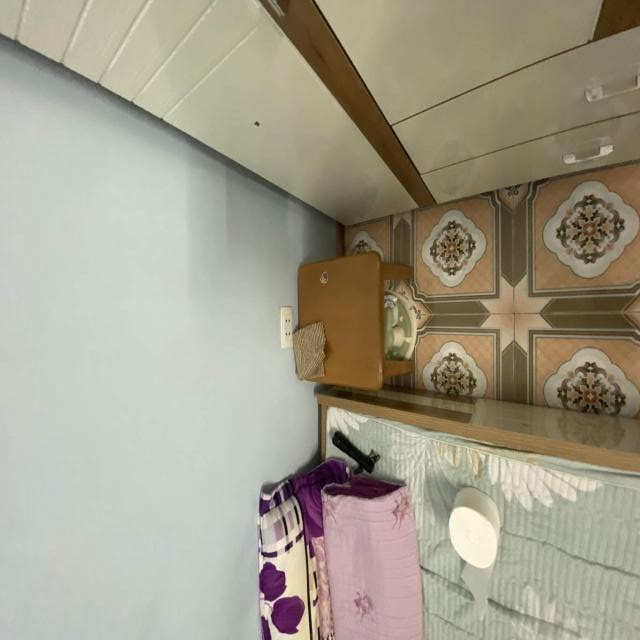outlet: (279, 307, 293, 349)
